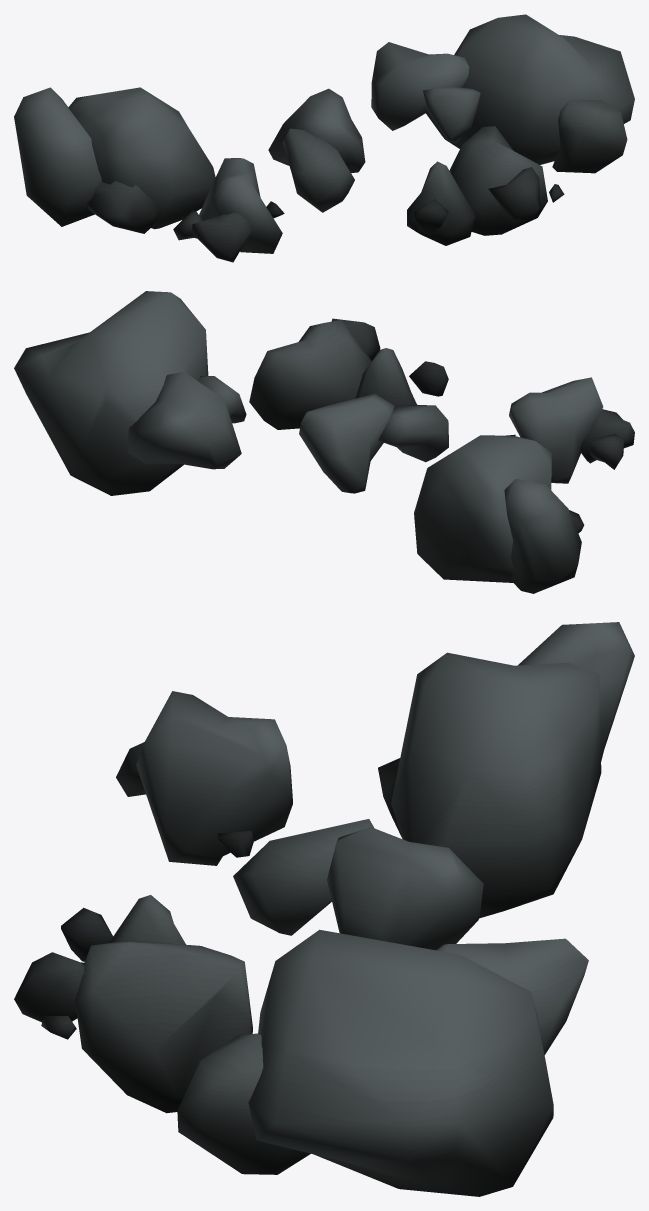
The model's file is Rocks2.glb.
The picture shows the model from 3 angles, top to bottom: view 1: azimuth 30°, elevation 25°; view 2: azimuth 150°, elevation 25°; view 3: azimuth 270°, elevation 25°; orthographic projection. The views are drawn at different scales.
Visible parts, largest first — view 1: Rocks2.col; view 2: Rocks2.col; view 3: Rocks2.col.
Boxes of the visible parts, <box> form: Rocks2.col: <box>14,14,634,262</box>; Rocks2.col: <box>14,291,634,593</box>; Rocks2.col: <box>14,622,634,1196</box>.
Size of the model in its own units: 4.28 by 1.16 by 2.5.
Materials: 1 (1 with a texture image).
